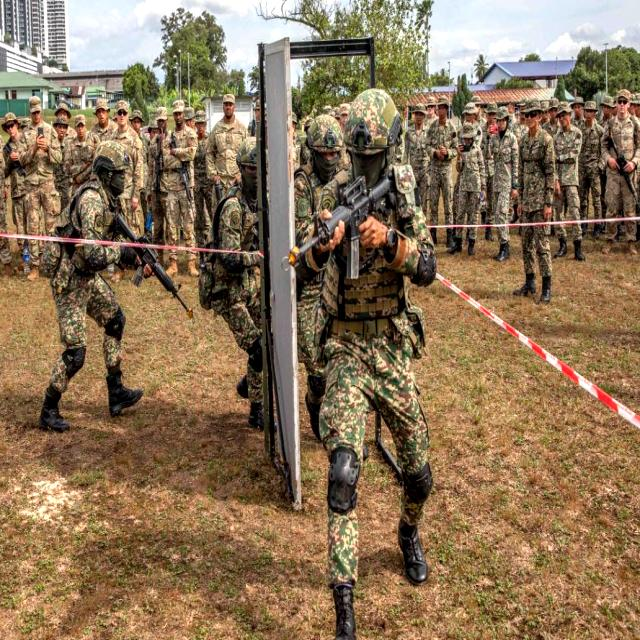m16: (279, 124, 480, 355)
